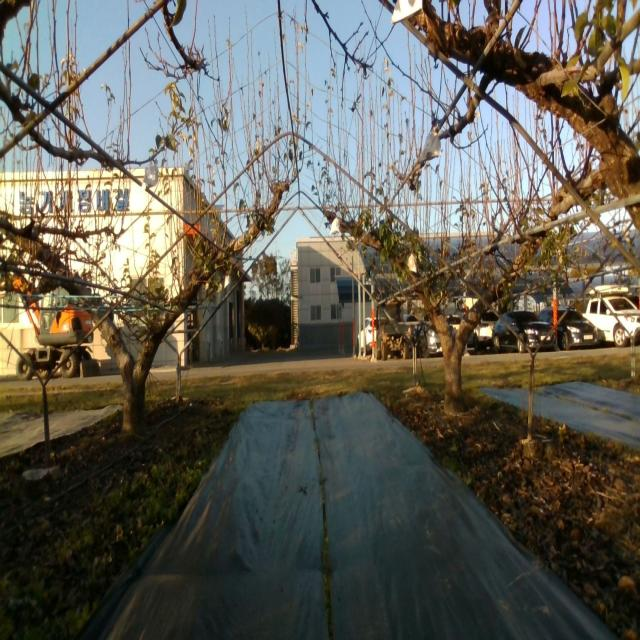pearbags: (391, 0, 423, 25), (418, 132, 441, 162), (141, 158, 159, 191), (329, 217, 340, 237)
